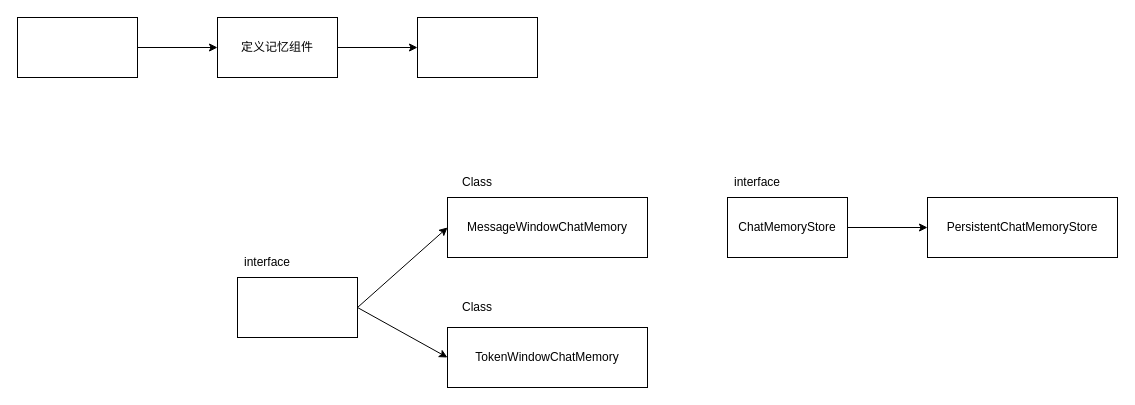
The diagram is 1135 pixels wide and 405 high, and some of its shapes have lost their labels. The centre of each missing label's shape, as x and y in pixels:
"ChatMemory" goes at (x=297, y=307).
"构建模型信息" goes at (x=77, y=47).
"组装为AIservice" goes at (x=477, y=47).
